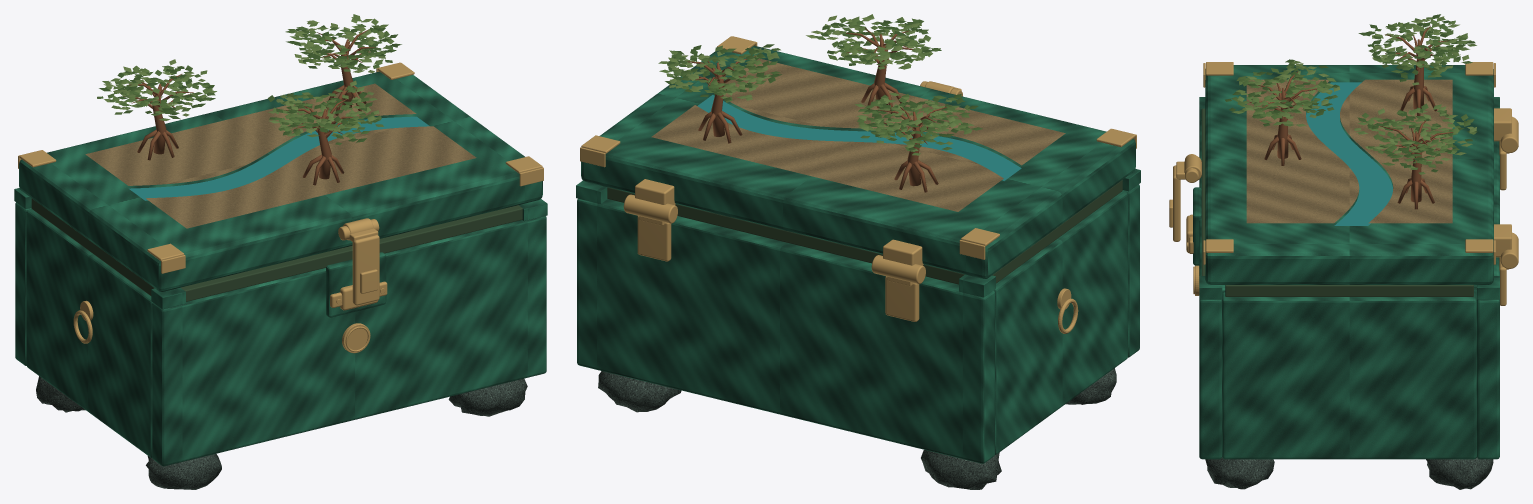
The model's file is panama.glb.
The picture shows the model from 3 angles, left to right: view 1: azimuth 30°, elevation 25°; view 2: azimuth 150°, elevation 25°; view 3: azimuth 270°, elevation 25°; orthographic projection. The views are drawn at different scales.
Visible parts, largest first — view 1: Jade / front, Lid / polished slab, Jade / side, Bank / south, Bank / north, Mineral seam / long, Tide / continuous inlet, Mangrove / foliage 3, Mangrove / foliage 1, Mangrove / foliage 2, Mangrove / foliage 0, Granite foot (+8 smaller); view 2: Jade / rear, Lid / polished slab, Jade / side, Bank / north, Bank / south, Tide / continuous inlet, Mangrove / foliage 3, Mangrove / foliage 1, Mangrove / foliage 2, Mineral seam / long.001, Mangrove / foliage 0, Granite foot.001 (+11 smaller); view 3: Jade / side.001, Lid / polished slab, Bank / south, Bank / north, Tide / continuous inlet, Jade / rear, Jade / front, Mangrove / foliage 3, Mangrove / foliage 1, Mangrove / foliage 2, Mangrove / foliage 0, Mineral seam / side.001 (+17 smaller).
Boxes of the visible parts, x1,y1,x2,y2 form: Jade / front: (152,216,546,466); Lid / polished slab: (19,71,542,291); Jade / side: (26,209,152,457); Bank / south: (146,126,476,228); Bank / north: (85,83,416,185); Mineral seam / long: (181,205,522,301); Tide / continuous inlet: (129,116,429,200); Mangrove / foliage 3: (103,18,385,136); Mangrove / foliage 1: (97,24,393,145); Mangrove / foliage 2: (102,14,394,138); Mangrove / foliage 0: (99,25,401,142); Granite foot: (146,454,221,489); Jade / rear: (577,198,994,463); Lid / polished slab: (581,45,1135,278); Jade / side: (994,191,1127,454); Bank / north: (651,105,1003,211); Bank / south: (723,58,1065,165); Tide / continuous inlet: (697,95,1021,180); Mangrove / foliage 3: (668,15,974,150); Mangrove / foliage 1: (670,17,982,152); Mangrove / foliage 2: (658,14,972,155); Mineral seam / long.001: (607,187,964,284); Mangrove / foliage 0: (665,20,978,150); Granite foot.001: (921,450,1001,489); Jade / side.001: (1222,292,1476,459); Lid / polished slab: (1205,65,1493,284); Bank / south: (1246,79,1359,223); Bank / north: (1340,79,1452,223); Tide / continuous inlet: (1306,82,1392,225); Jade / rear: (1477,141,1499,459); Jade / front: (1199,121,1222,459); Mangrove / foliage 3: (1237,16,1476,162); Mangrove / foliage 1: (1231,18,1474,169); Mangrove / foliage 2: (1232,17,1476,174); Mangrove / foliage 0: (1225,14,1477,172); Mineral seam / side.001: (1225,285,1473,296).
Bounding box in the file's own units: 3.79 × 3.05 × 2.88.
11 materials, 3 textured.
